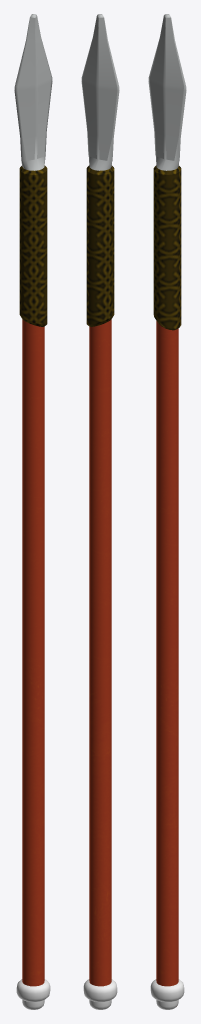
Rendered from SteelSamuraiSpear.fbx.
3 views of the same model, side by side, from view 1: azimuth 30°, elevation 25°; view 2: azimuth 150°, elevation 25°; view 3: azimuth 330°, elevation 25° (orthographic).
Visible parts, largest first — view 1: Cylinder; view 2: Cylinder; view 3: Cylinder.
Boxes of the visible parts, bbox=[...] form: Cylinder: bbox=[14, 14, 52, 1009]; Cylinder: bbox=[81, 14, 119, 1009]; Cylinder: bbox=[148, 14, 186, 1009].
Size of the model in its own units: 0.0781 by 1.95 by 0.06.
